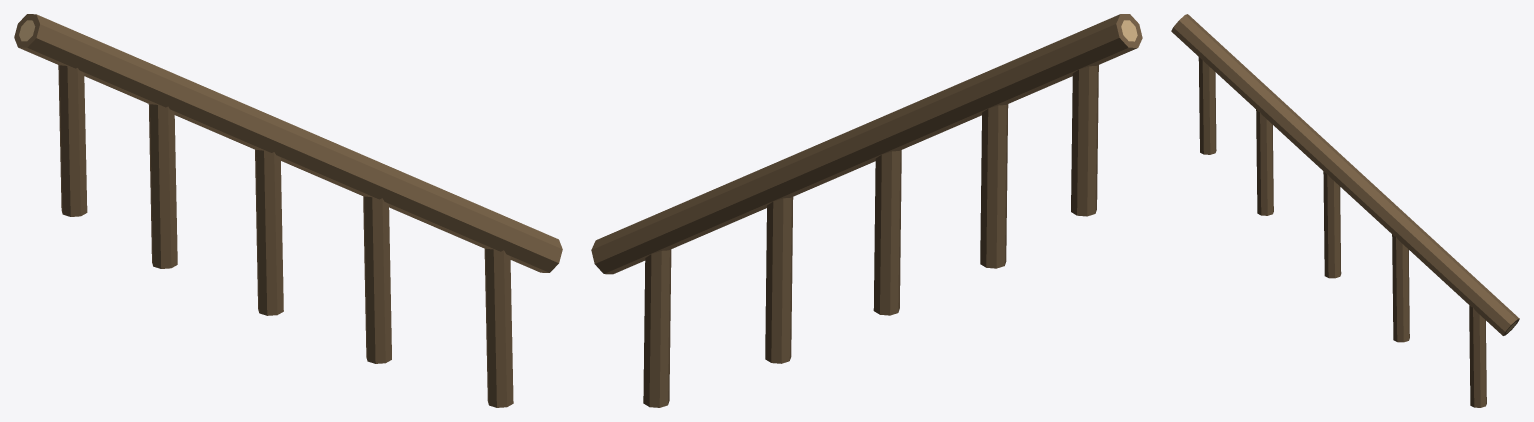
Rendered from rpgpp_ag_wall_platform_stairs_01a_2m_handrail_01.fbx.
3 views of the same model, side by side, from view 1: azimuth 30°, elevation 25°; view 2: azimuth 150°, elevation 25°; view 3: azimuth 330°, elevation 25° (orthographic). The views are drawn at different scales.
Parts seen in each view (by area): view 1: rpgpp_ag_wall_platform_stairs_01a_2m_handrail_01; view 2: rpgpp_ag_wall_platform_stairs_01a_2m_handrail_01; view 3: rpgpp_ag_wall_platform_stairs_01a_2m_handrail_01.
Boxes of the visible parts, x1,y1,x2,y2 form: rpgpp_ag_wall_platform_stairs_01a_2m_handrail_01: (14,14,562,407); rpgpp_ag_wall_platform_stairs_01a_2m_handrail_01: (591,14,1142,407); rpgpp_ag_wall_platform_stairs_01a_2m_handrail_01: (1171,14,1519,407).
Bounding box in the file's own units: 2.67 × 2.36 × 0.1661.
